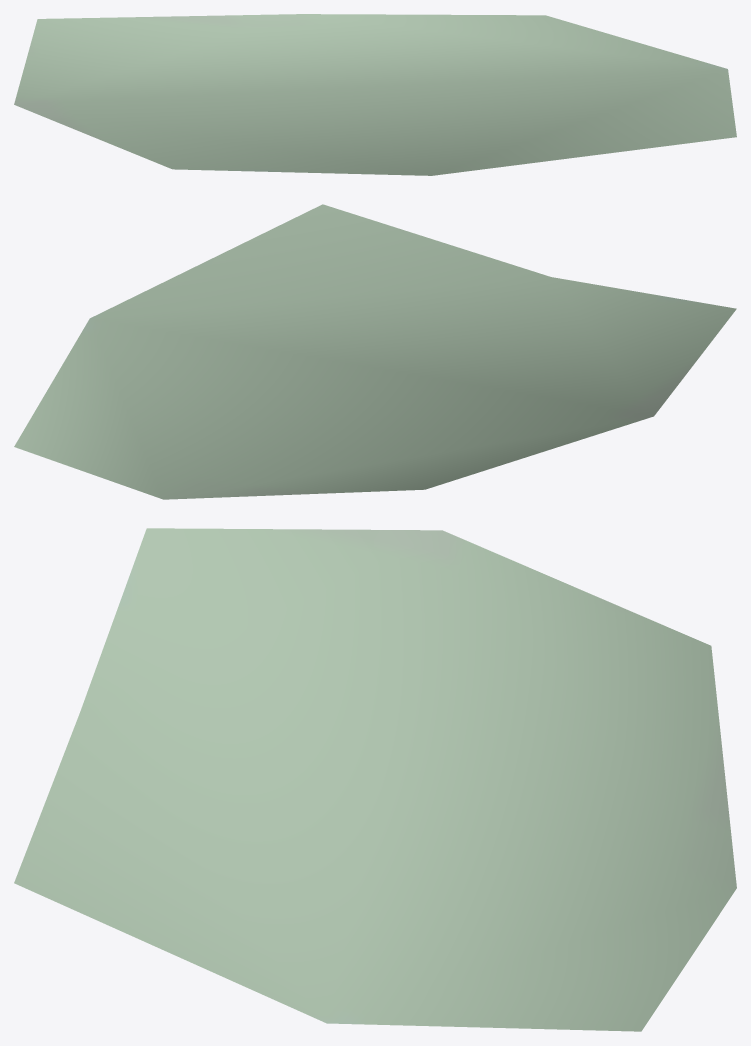
The model's file is TROLLHOLE02_HOLECAP185.fbx.
3 renders of one model, top to bottom at view 1: azimuth 30°, elevation 25°; view 2: azimuth 150°, elevation 25°; view 3: azimuth 270°, elevation 25°, orthographic. The views are drawn at different scales.
Parts seen in each view (by area): view 1: TROLLHOLE02_HOLECAP185; view 2: TROLLHOLE02_HOLECAP185; view 3: TROLLHOLE02_HOLECAP185.
Part boxes in pixels (x1=…): TROLLHOLE02_HOLECAP185: x1=14, y1=14, x2=736, y2=175; TROLLHOLE02_HOLECAP185: x1=14, y1=204, x2=736, y2=499; TROLLHOLE02_HOLECAP185: x1=14, y1=528, x2=736, y2=1031.
Bounding box in the file's own units: 15174 × 3059 × 12034.
1 material, 1 textured.
